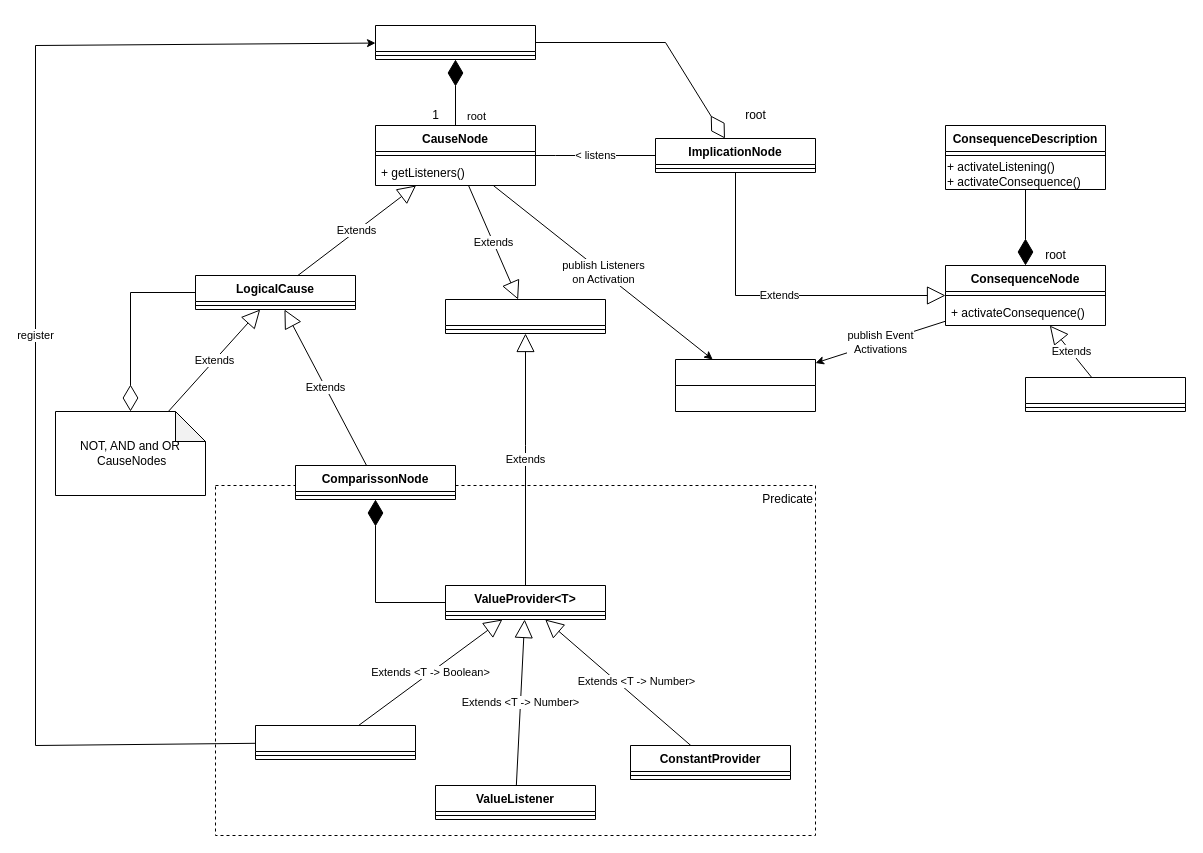
Some shapes in this 1203 by 853 pixel diagram are drawn without their labels. The shapes that lost their labels are listed below. From the top down, each one's centre as x and y in pixels, then its label:
the point at 455,42: CauseDescription
the point at 525,316: StateChangePublisher
the point at 745,385: TriggerNotifier
the point at 1105,394: AndConsequenceNode
the point at 335,742: EventActivationListener
